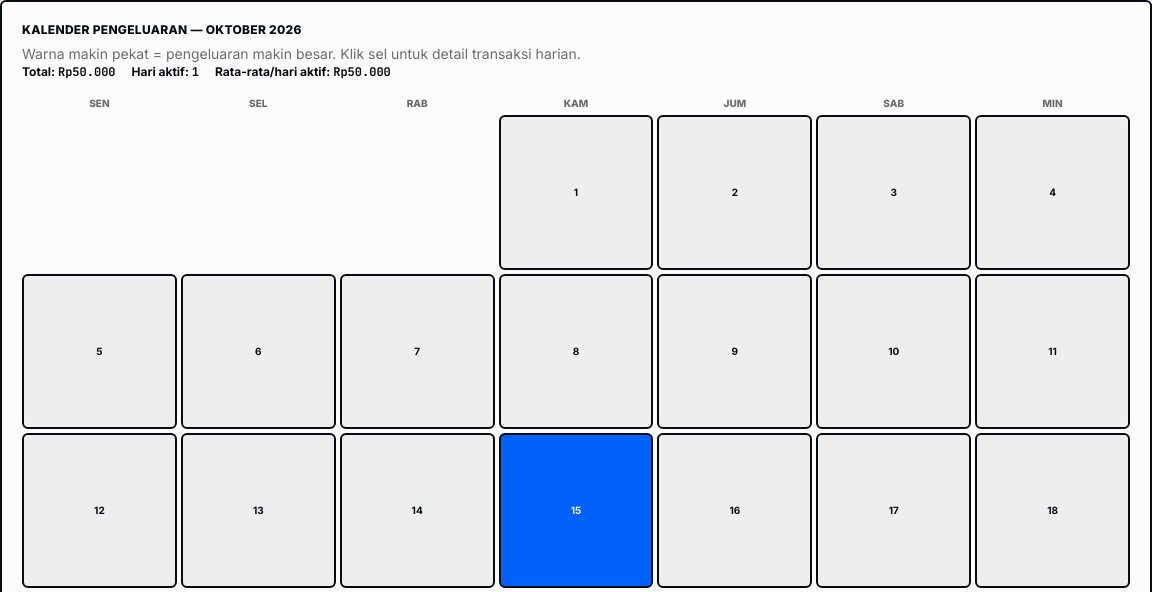
Test: CalendarHeatmap › opens popup modal when a date cell is clicked
The width and height of the screenshot is (1152, 592).
Click the button named "2026-10-15": click(576, 510) [499,433,654,588]
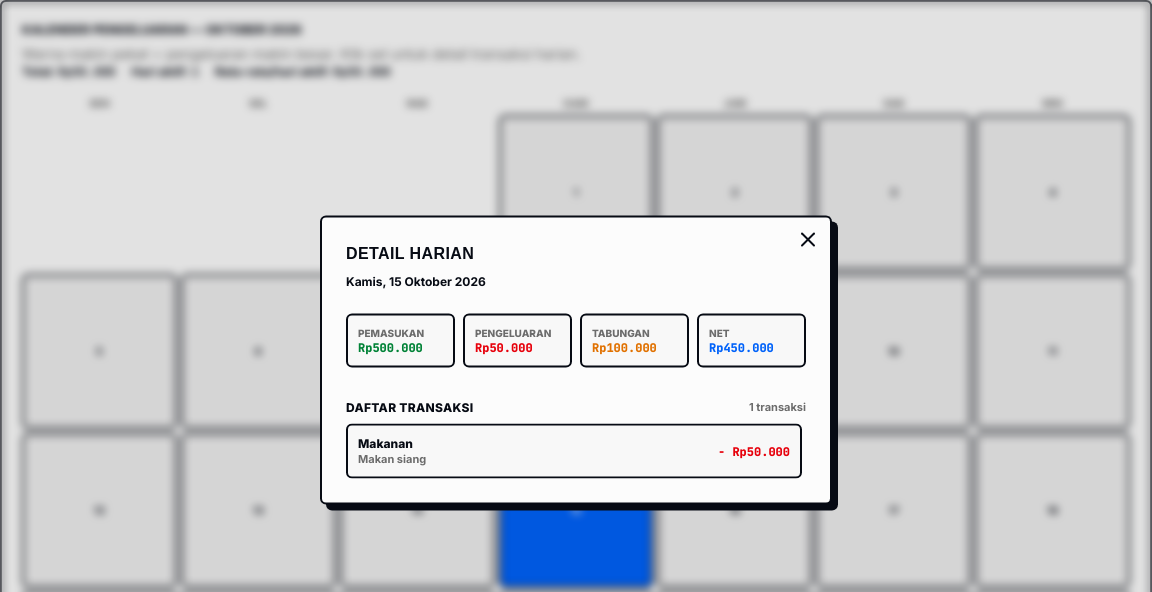
Check: the heading "Detail Harian" is shown, box [346,244,474,262]
Check: the text "15 Oktober 2026" is shown, box [346,274,486,288]
Check: the heading "Daftar Transaksi" is shown, box [346,400,474,416]
